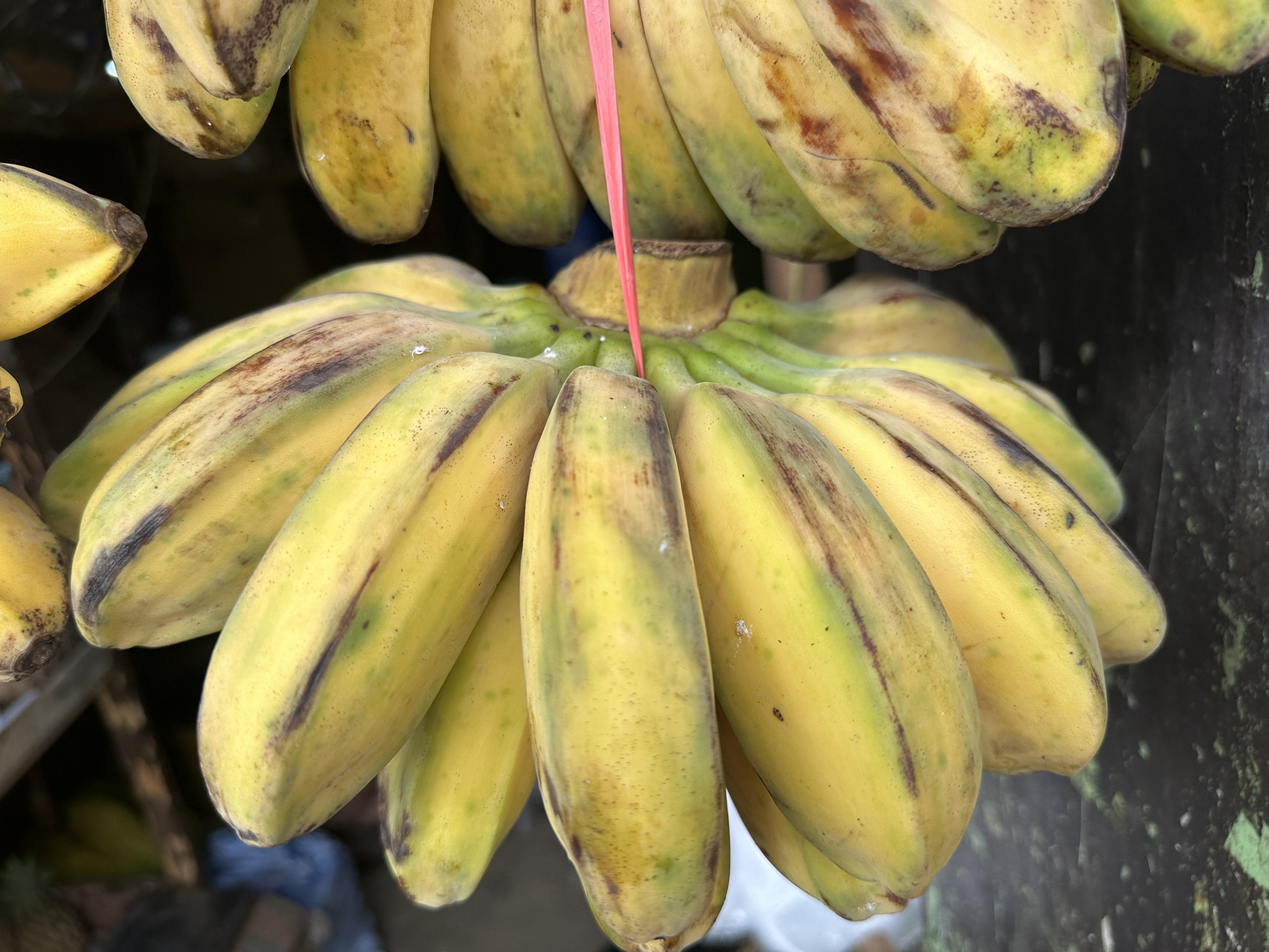underripe: (38, 257, 1163, 952), (105, 0, 1269, 264)
